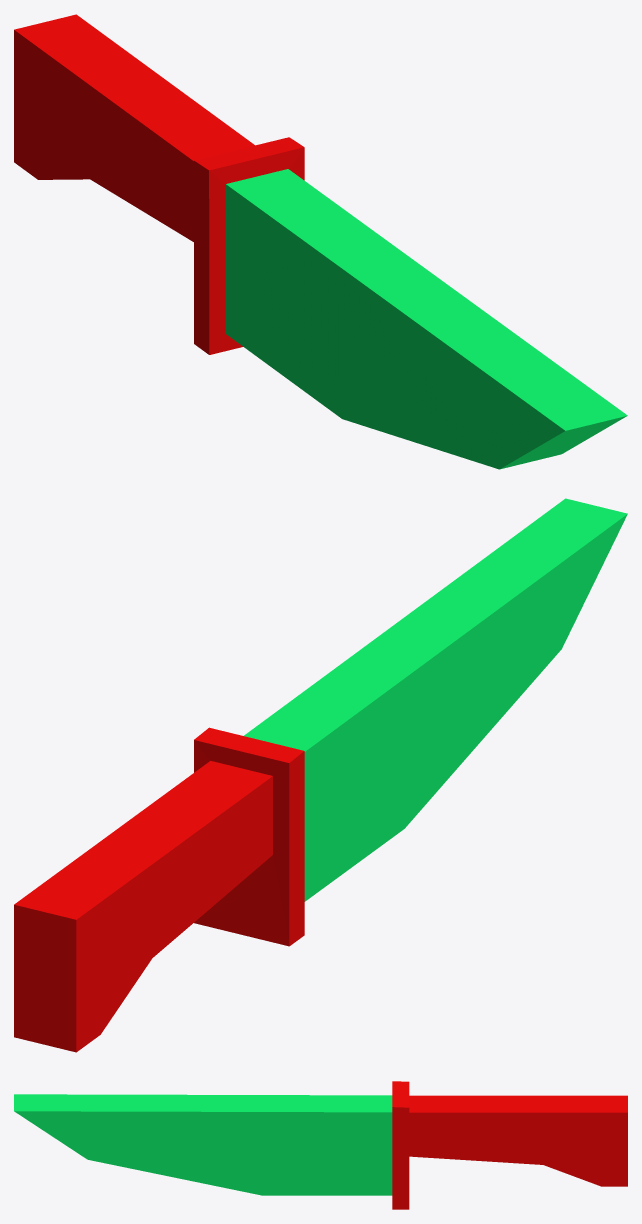
Rendered from Knife.fbx.
3 renders of one model, top to bottom at view 1: azimuth 30°, elevation 25°; view 2: azimuth 150°, elevation 25°; view 3: azimuth 270°, elevation 25°, orthographic. The views are drawn at different scales.
Visible parts, largest first — view 1: Box003; view 2: Box003; view 3: Box003.
Boxes of the visible parts, left/top/right/bottom form: Box003: left=14, top=14, right=627, bottom=469; Box003: left=14, top=498, right=627, bottom=1052; Box003: left=14, top=1081, right=627, bottom=1209.
Bounding box in the file's own units: 5.02 × 50.25 × 9.28.
